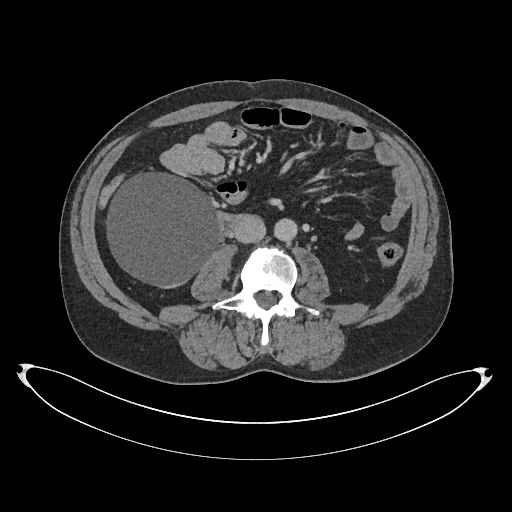Lesion: (106, 174, 222, 289)
